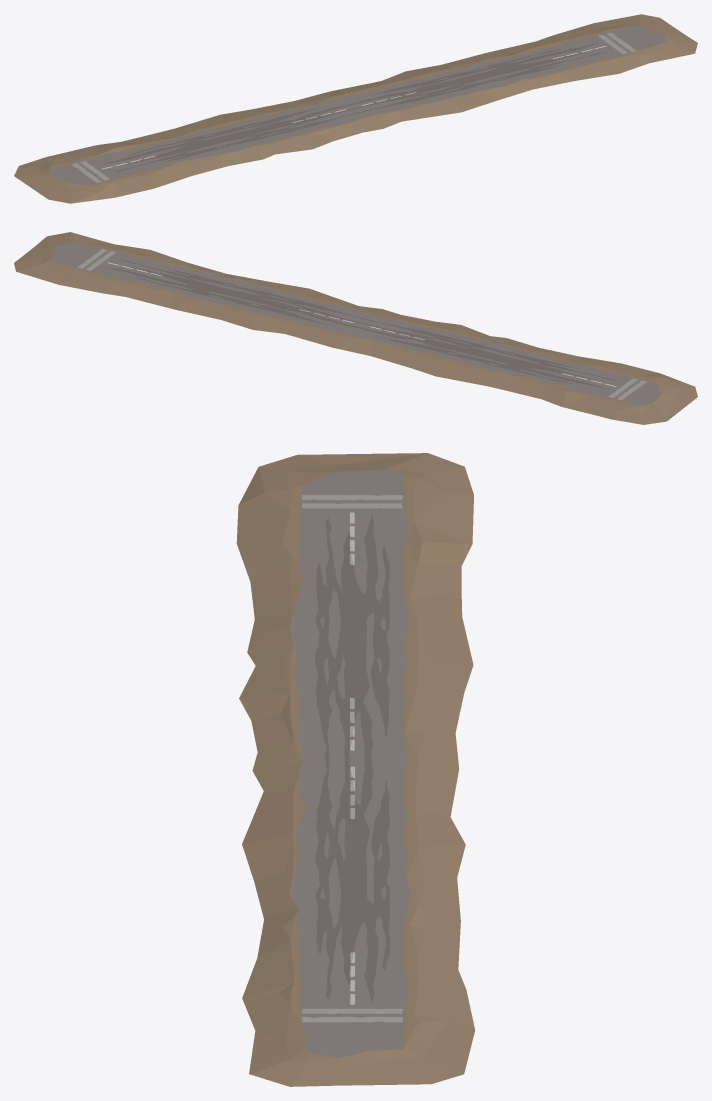
The model's file is SM_Env_Runway_01.glb.
3 renders of one model, top to bottom at view 1: azimuth 30°, elevation 25°; view 2: azimuth 150°, elevation 25°; view 3: azimuth 270°, elevation 25°, orthographic. The views are drawn at different scales.
Parts seen in each view (by area): view 1: SM_Env_Runway_01; view 2: SM_Env_Runway_01; view 3: SM_Env_Runway_01.
Boxes of the visible parts, box(x1,y1,x2,y2) form: SM_Env_Runway_01: box(14, 14, 697, 203); SM_Env_Runway_01: box(14, 232, 697, 424); SM_Env_Runway_01: box(236, 453, 475, 1086).
Bounding box in the file's own units: 209 × 1.48 × 33.29.
Materials: 1 (1 with a texture image).
